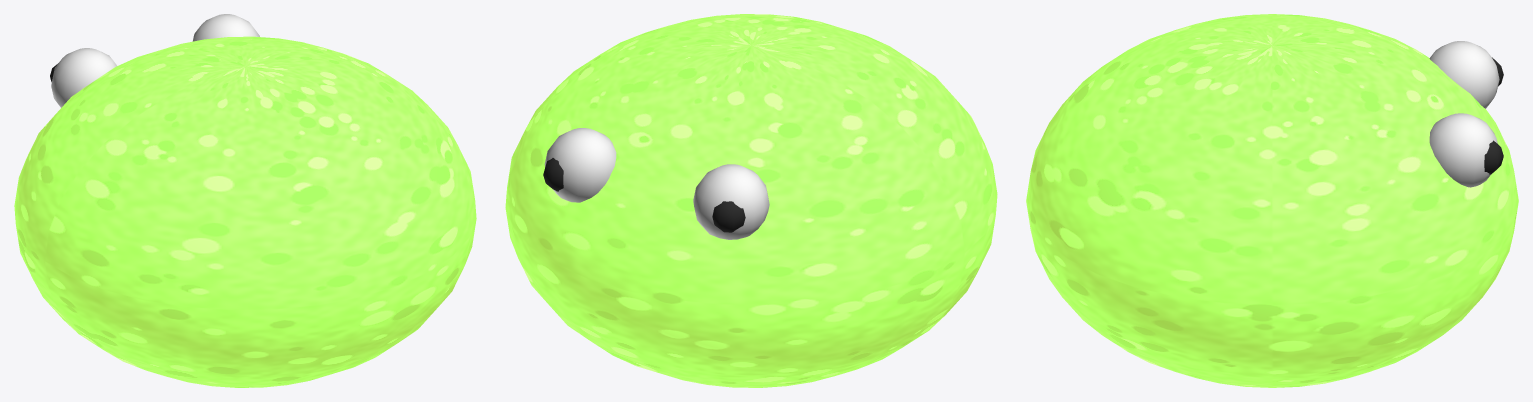
The model's file is acid-blob.glb.
The picture shows the model from 3 angles, left to right: view 1: azimuth 30°, elevation 25°; view 2: azimuth 150°, elevation 25°; view 3: azimuth 270°, elevation 25°; orthographic projection. The views are drawn at different scales.
Visible parts, largest first — view 1: Body, Eye, Eye.001; view 2: Body, Eye, Eye.001, Pupil, Pupil.001; view 3: Body, Eye.001, Eye, Pupil.001.
Boxes of the visible parts, box(x1,y1,x2,y2) form: Body: box(14, 36, 476, 387); Eye: box(51, 48, 116, 107); Eye.001: box(192, 14, 259, 41); Body: box(505, 14, 997, 387); Eye: box(693, 164, 769, 239); Eye.001: box(544, 128, 616, 202); Pupil: box(712, 201, 745, 232); Pupil.001: box(543, 158, 563, 191); Body: box(1026, 14, 1518, 387); Eye.001: box(1429, 113, 1497, 187); Eye: box(1429, 41, 1499, 108); Pupil.001: box(1484, 140, 1503, 174).
Bounding box in the file's own units: 1.44 × 1 × 1.44.
3 materials, 1 textured.
